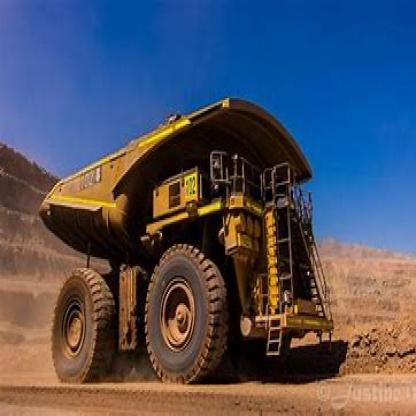dump_truck: (33, 90, 339, 381)
